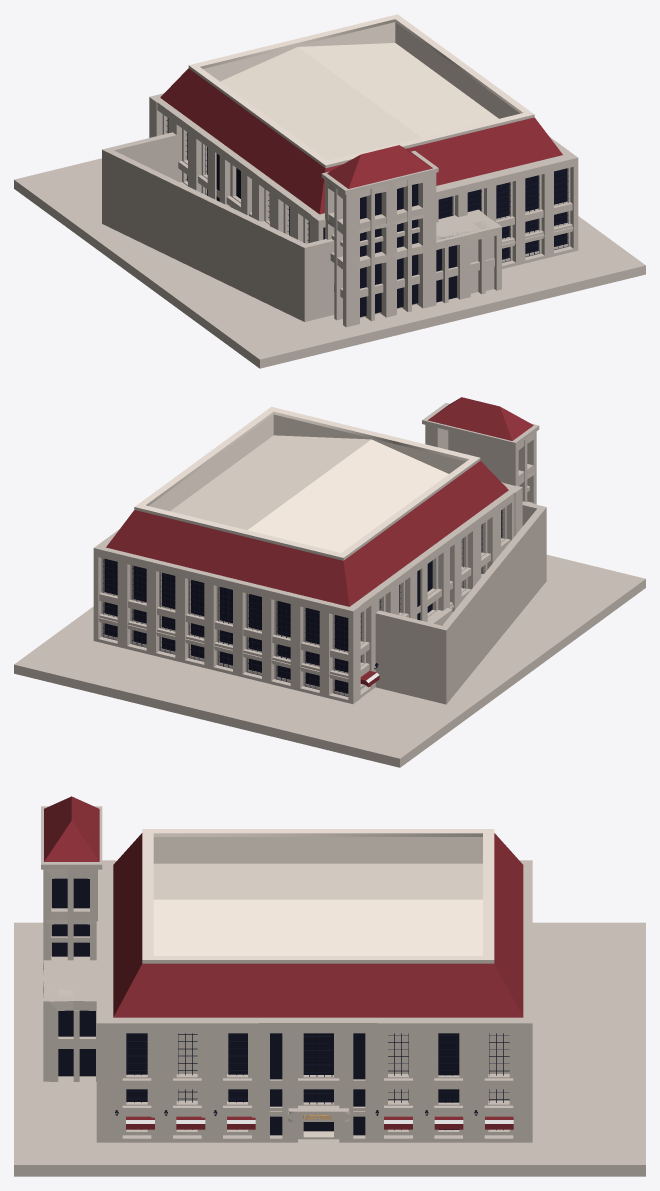
Rendered from Cafe.fbx.
The picture shows the model from 3 angles, top to bottom: view 1: azimuth 30°, elevation 25°; view 2: azimuth 150°, elevation 25°; view 3: azimuth 270°, elevation 25°; orthographic projection. The views are drawn at different scales.
Visible parts, largest first — view 1: 0Build, 4Base, 2Window, 3Frame; view 2: 0Build, 4Base, 2Window, 3Frame; view 3: 0Build, 4Base, 2Window, 3Frame, 1Sun Shade.
Boxes of the visible parts, <box> form: 0Build: <box>102,14,578,327</box>; 4Base: <box>14,158,645,368</box>; 2Window: <box>167,118,567,317</box>; 3Frame: <box>166,120,568,262</box>; 0Build: <box>93,397,546,704</box>; 4Base: <box>14,554,645,767</box>; 2Window: <box>104,510,501,693</box>; 3Frame: <box>103,509,502,696</box>; 0Build: <box>41,796,532,1142</box>; 4Base: <box>14,922,645,1176</box>; 2Window: <box>52,878,459,1135</box>; 3Frame: <box>127,1033,509,1130</box>; 1Sun Shade: <box>126,1116,513,1129</box>.
Size of the model in its own units: 12926 by 5365 by 14256.
